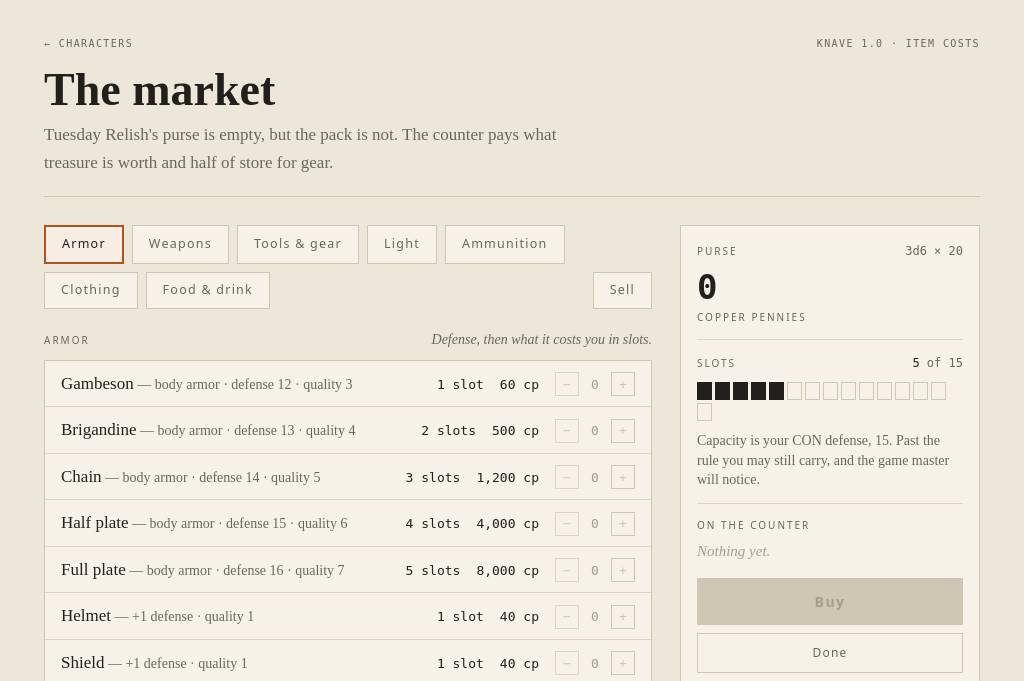
Scenario: the counter, selling › has nothing left to offer once it has all been put on the block
Step 1. Click the button "Sell" → (622, 290), box [593,272,652,309]
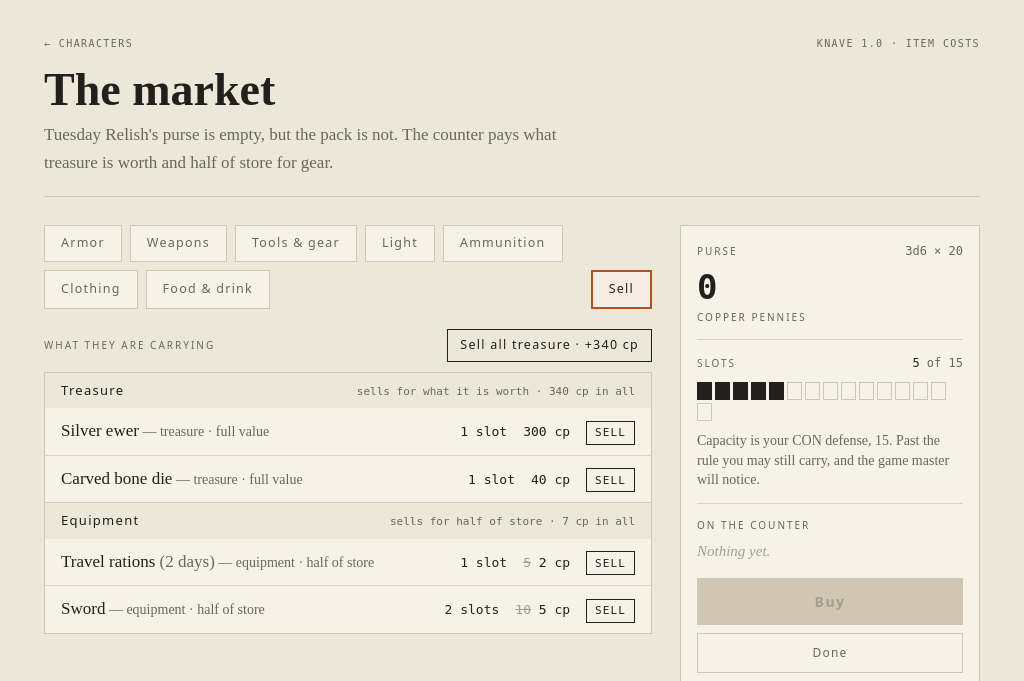
Step 2. Click the button "Sell all treasure · +340 cp" → (550, 345), box [447,329,652,362]
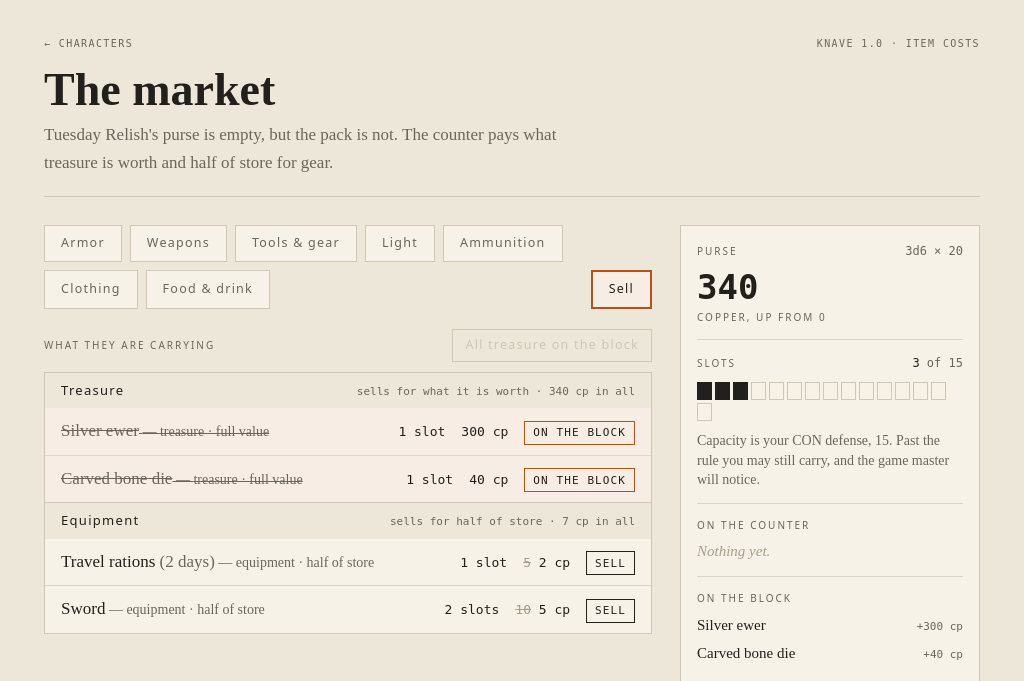
Expected: the button "All treasure on the block" is disabled, [452,329,652,362]
